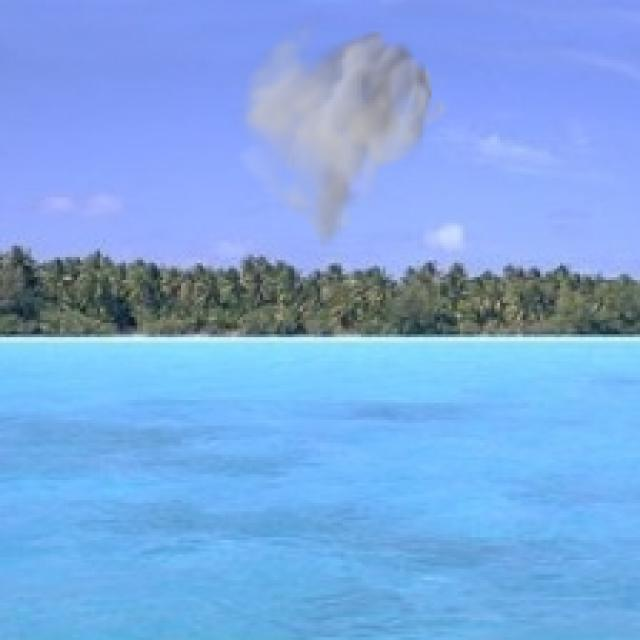Smoke: (232, 8, 452, 255)
